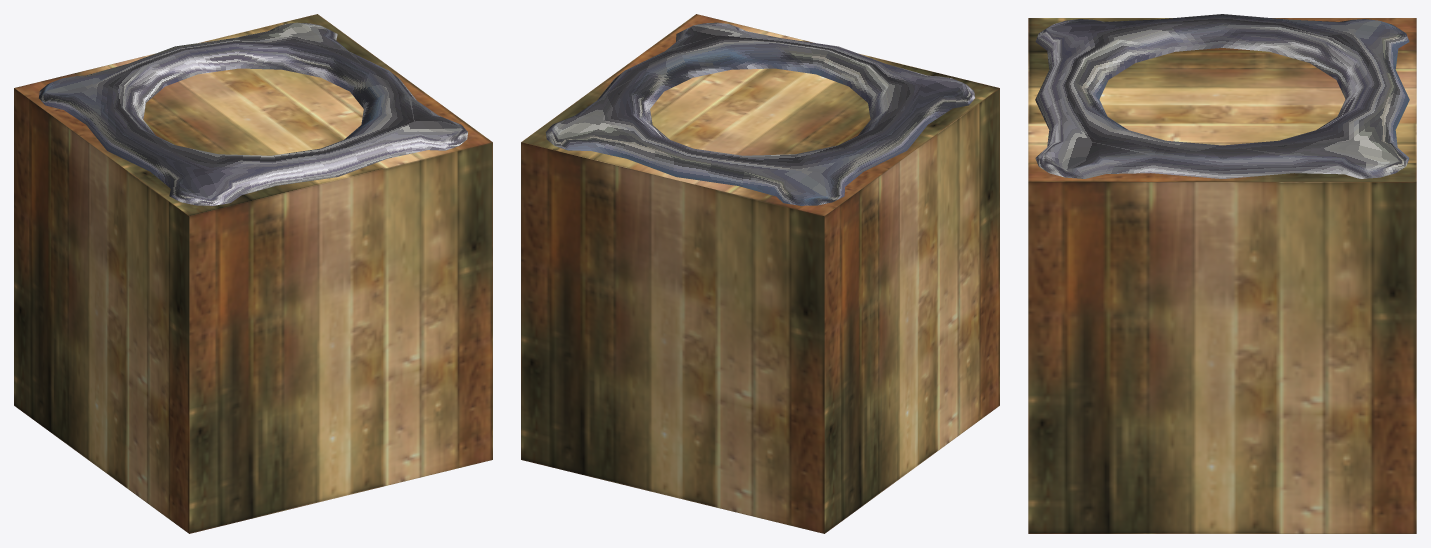
Rendered from wood_transform.glb.
3 renders of one model, left to right at view 1: azimuth 30°, elevation 25°; view 2: azimuth 150°, elevation 25°; view 3: azimuth 270°, elevation 25°, orthographic. The views are drawn at different scales.
Visible parts, largest first — view 1: WoodTrafo_0; view 2: WoodTrafo_0; view 3: WoodTrafo_0.
Part boxes in pixels (<box>): WoodTrafo_0: <box>14,14,492,533</box>; WoodTrafo_0: <box>521,14,999,533</box>; WoodTrafo_0: <box>1028,14,1416,533</box>.
Size of the model in its own units: 5 by 5.24 by 5.
Materials: 3 (3 with a texture image).
